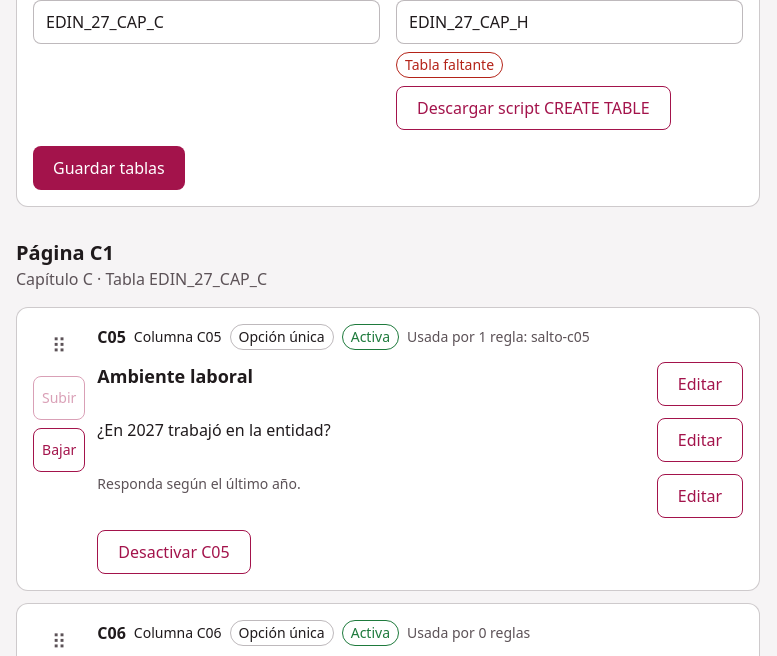
Test: QuestionEditor › editsHeaderAndHelp
(page scrolled)
Click the button with aria-label "Editar encabezado de C05": [700, 384] box x1=657 y1=362 x2=743 y2=406
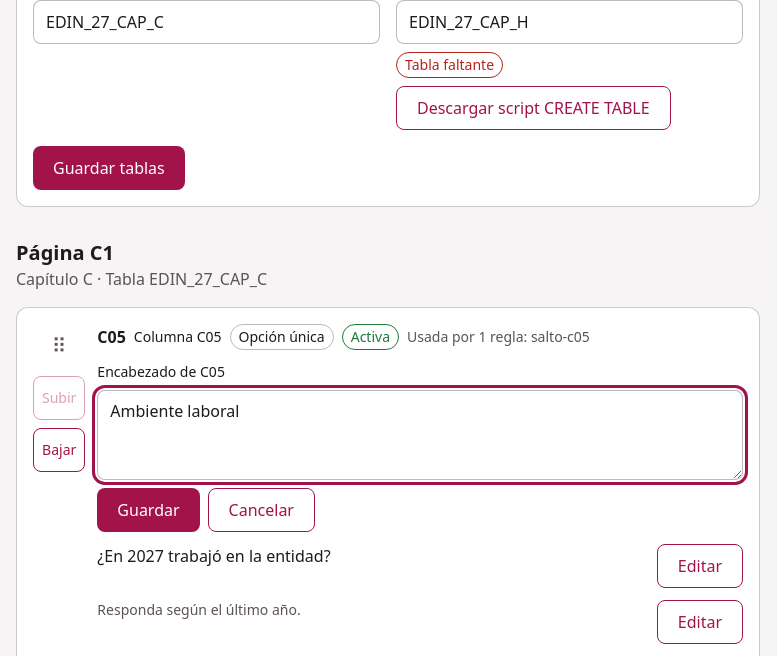
Replace the text in the text box labelled "Encabezado de C05" with "Clima": [420, 435] box x1=97 y1=390 x2=743 y2=480
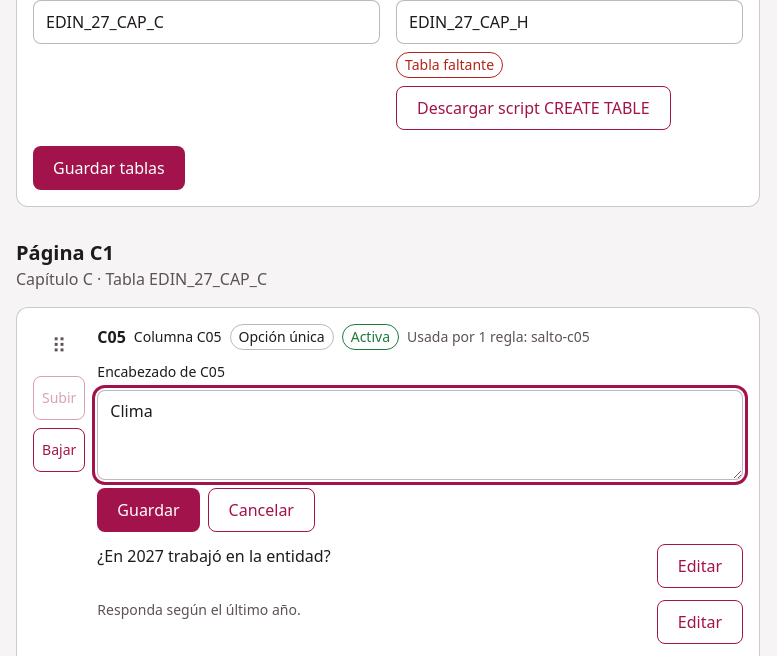
Click the button "Guardar": [148, 510] box x1=97 y1=488 x2=200 y2=532
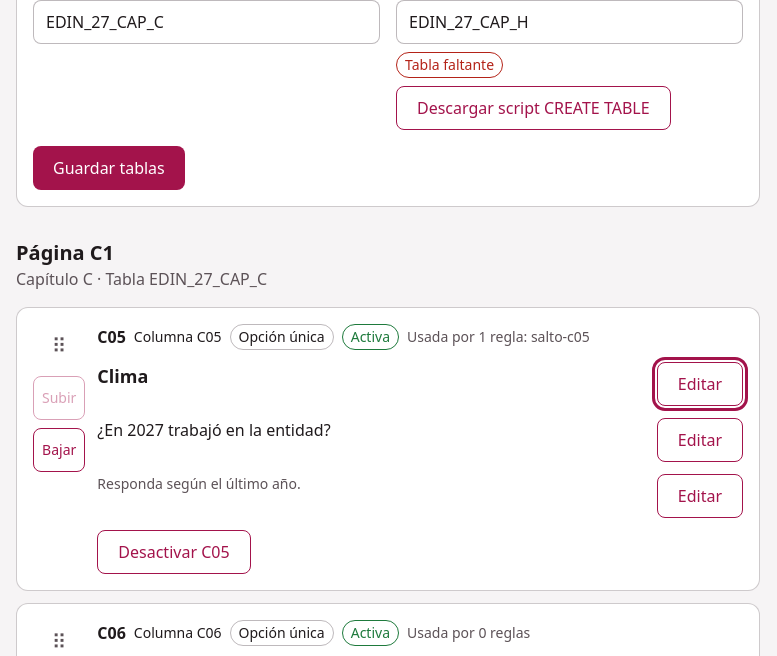
Expected: the text "Clima" is shown, x1=97 y1=364 x2=148 y2=388
Click the button with aria-label "Editar ayuda de C05": [700, 496] box x1=657 y1=474 x2=743 y2=518
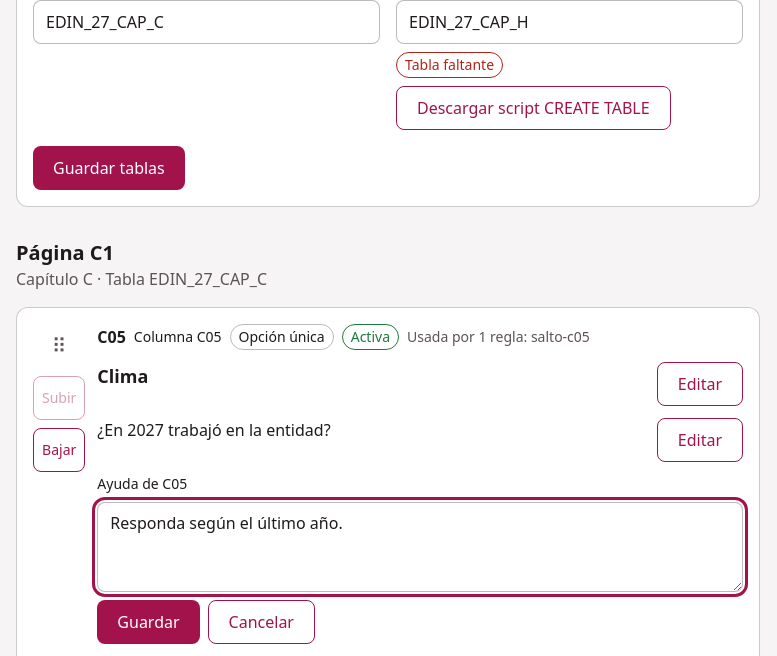
Replace the text in the text box labelled "Ayuda de C05" with "Nueva ayuda": [420, 547] box x1=97 y1=502 x2=743 y2=592
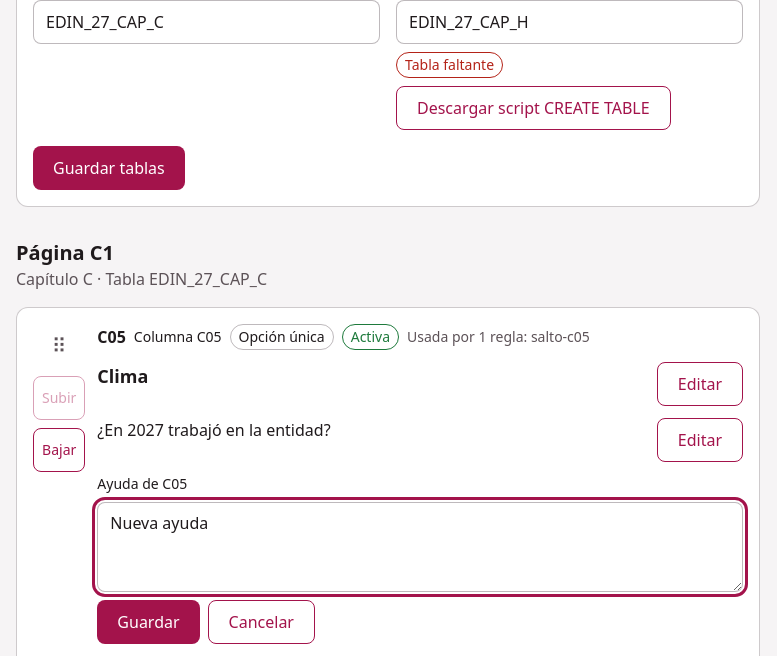
Click the button "Guardar": [148, 622] box x1=97 y1=600 x2=200 y2=644
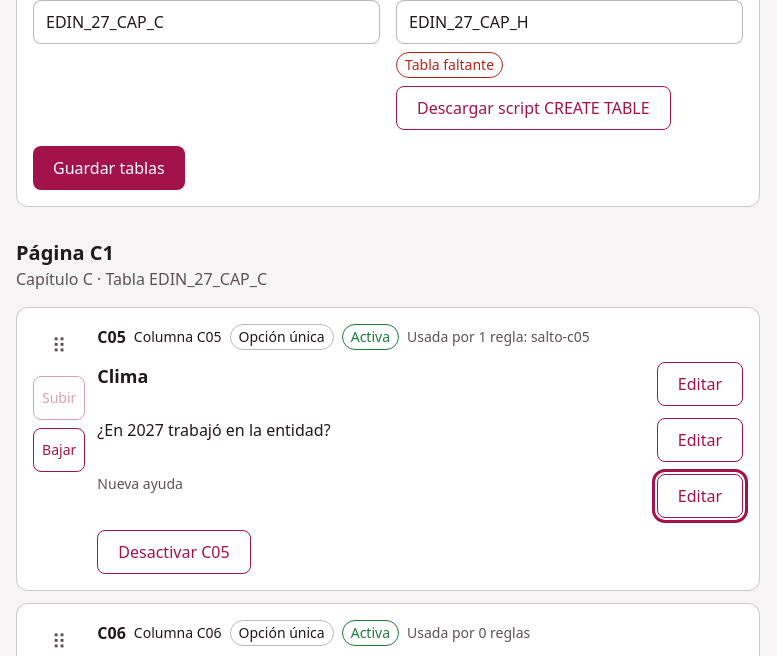
Expected: the text "Nueva ayuda" is shown, x1=97 y1=474 x2=183 y2=493
